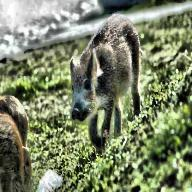boar: (61, 14, 166, 144)
